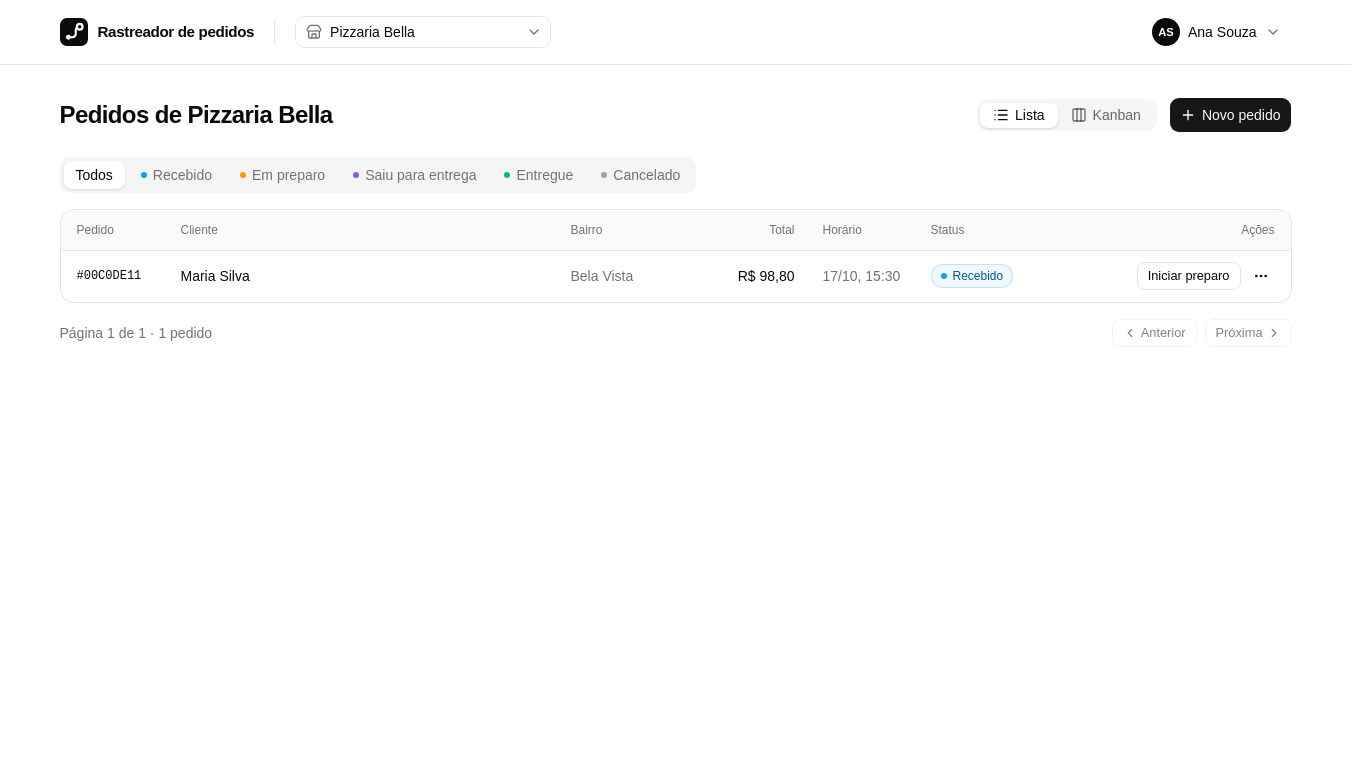
Test: order list › asks for a detail when the reason is "other"
This screenshot has width=1366, height=768.
Step 1. Click the button named "Mais ações do pedido #00C0DE11" → (1260, 276), box 1246,262 -> 1274,290
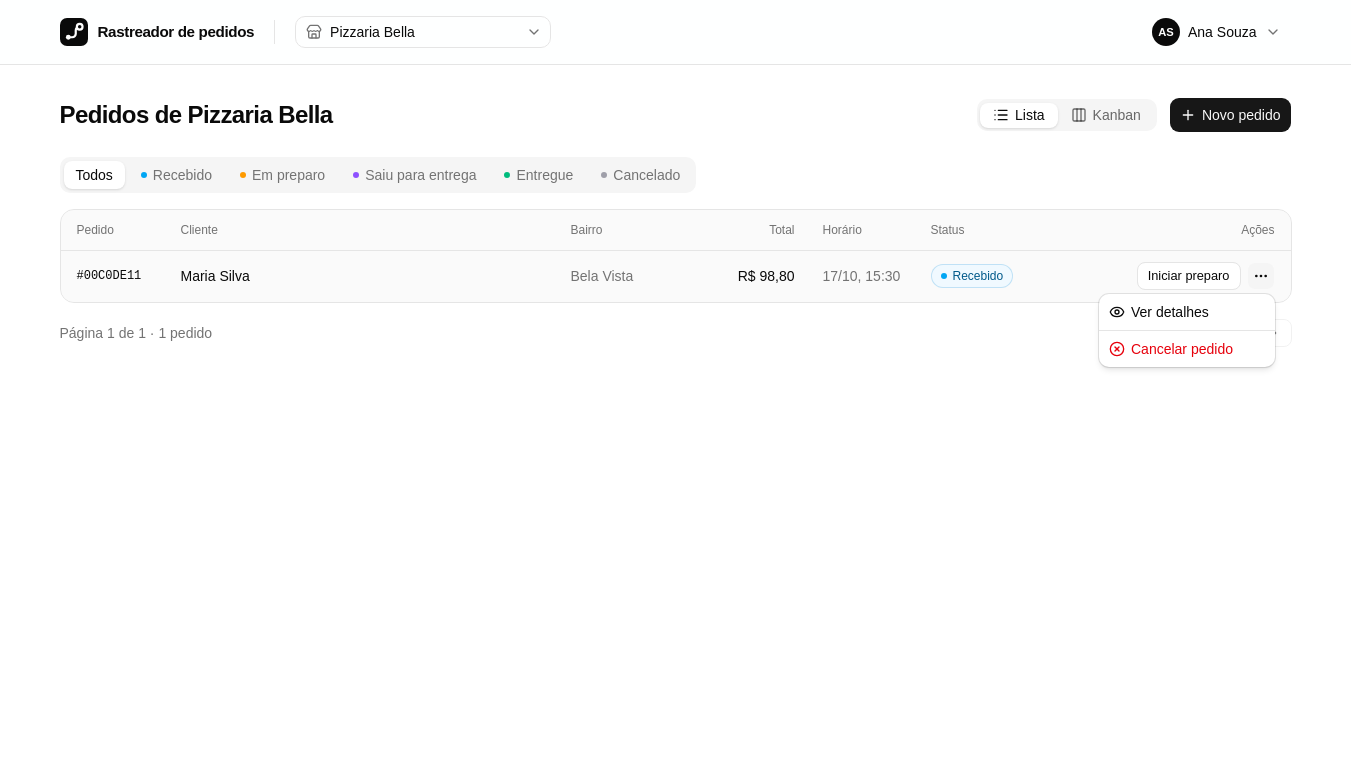
Step 2. Click the menu item "Cancelar pedido" → (1171, 349), box 1109,341 -> 1233,357
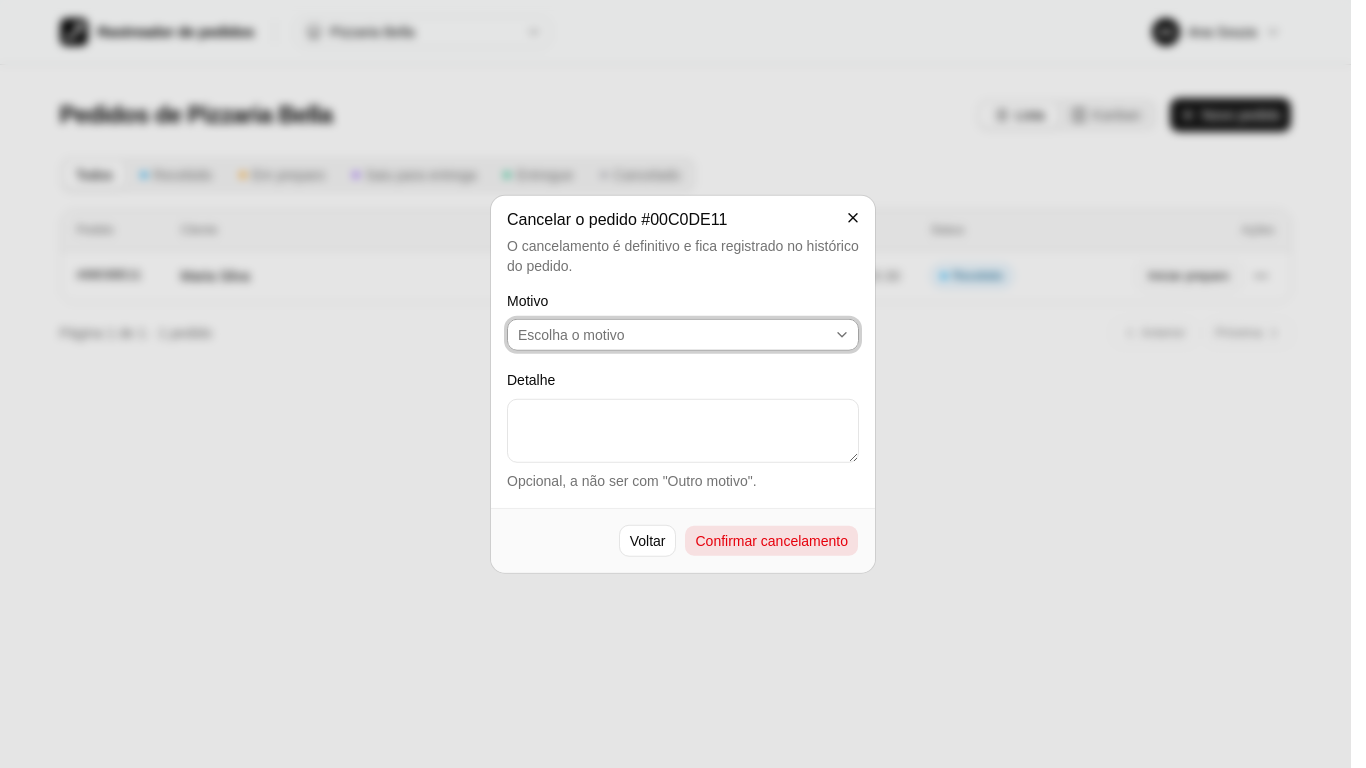
Step 3. Click the dropdown labelled "motivo" → (571, 335), box 507,319 -> 859,351
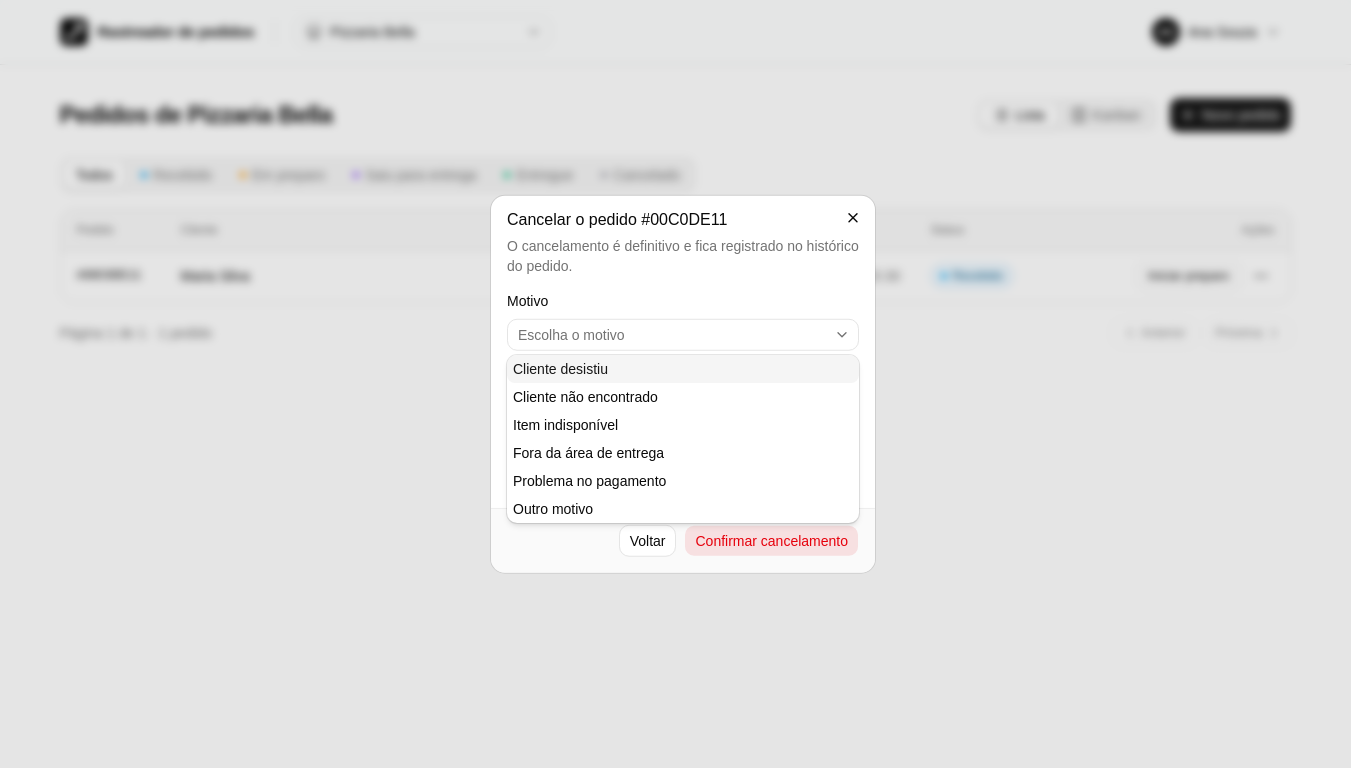
Step 4. Click the option "Outro motivo" → (553, 509), box 513,501 -> 593,517
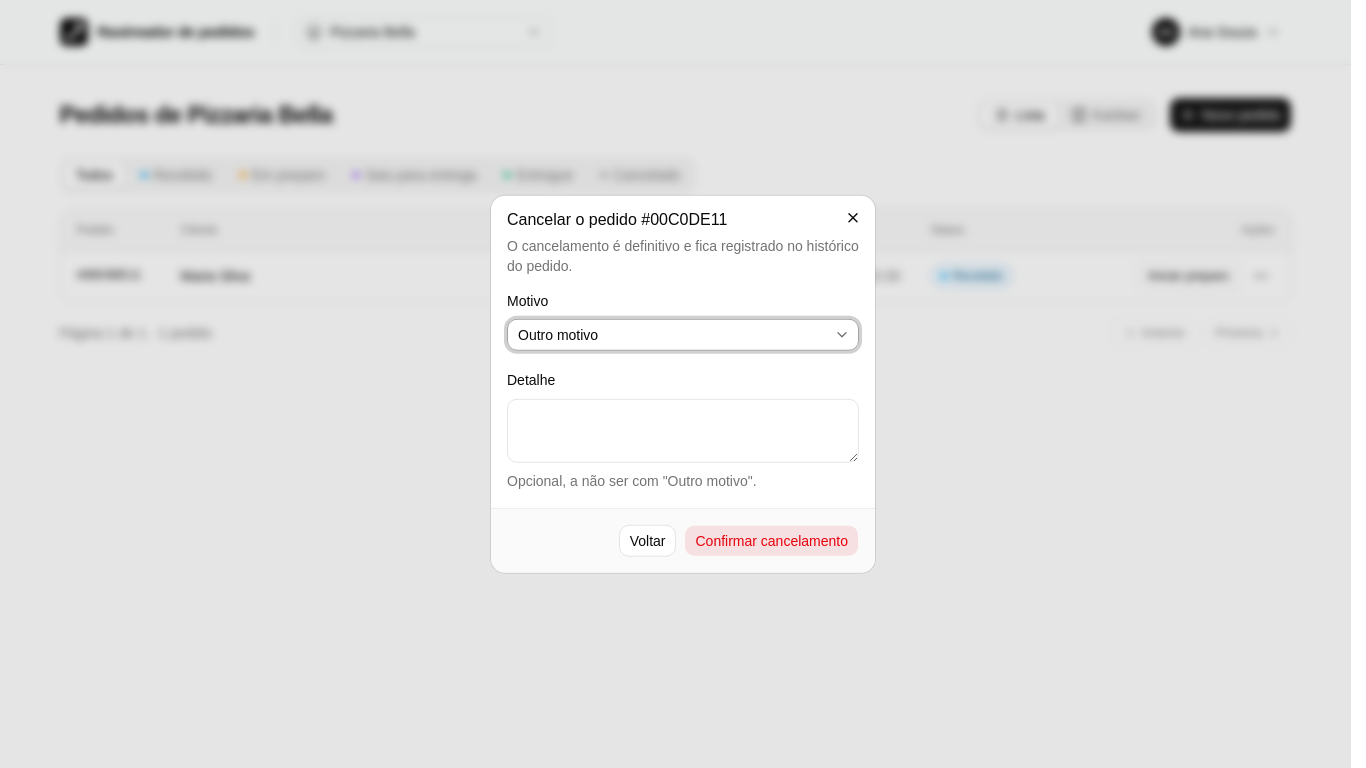
Step 5. Click the button "Confirmar cancelamento" → (772, 540), box 684,524 -> 859,556
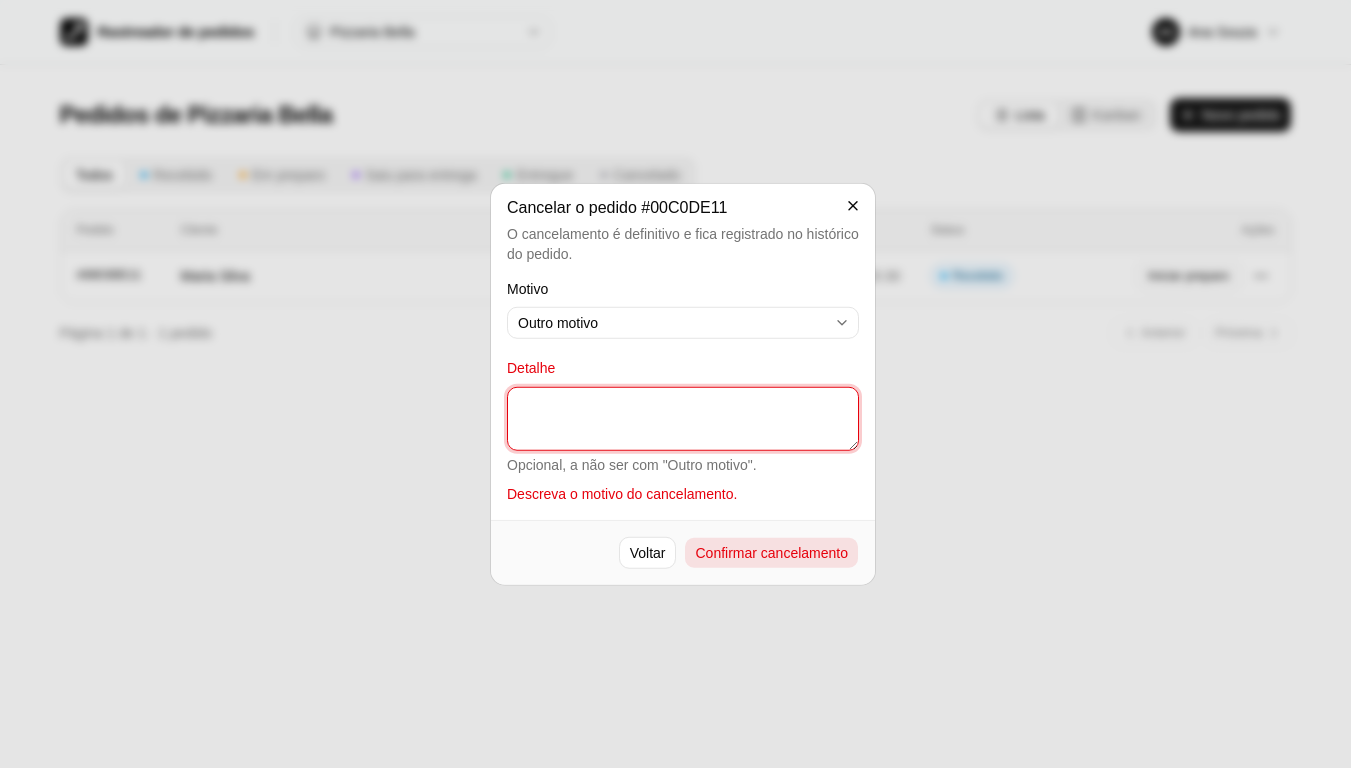
Check: the text "Descreva o motivo do cancelamento." is shown, box 507,485 -> 737,501
